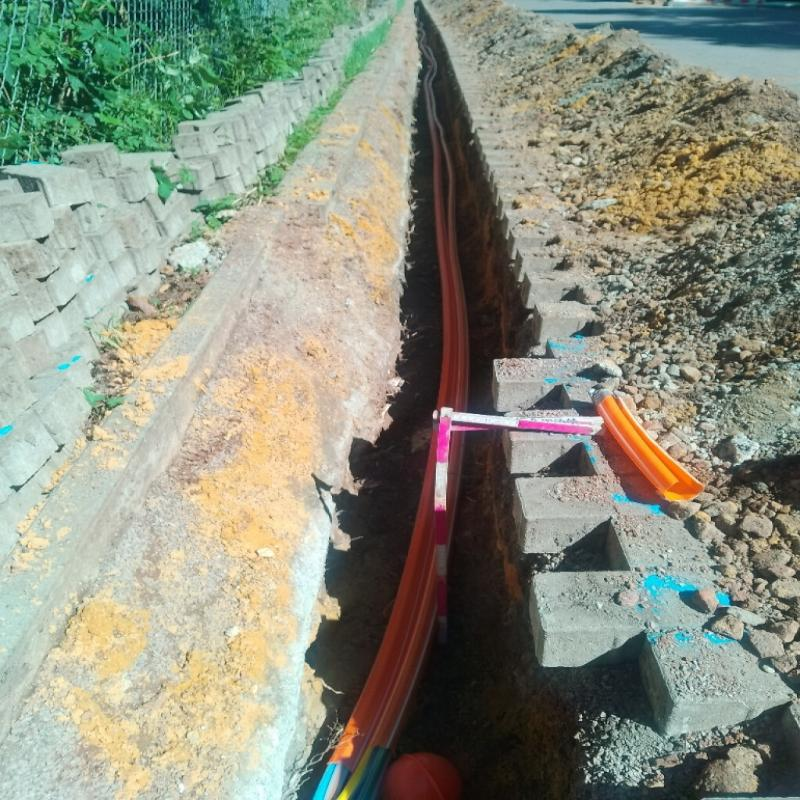Kugelmarker: (382, 751, 461, 800)
Orang-Speednetrohrchen: (313, 438, 450, 800), (436, 215, 470, 412)
